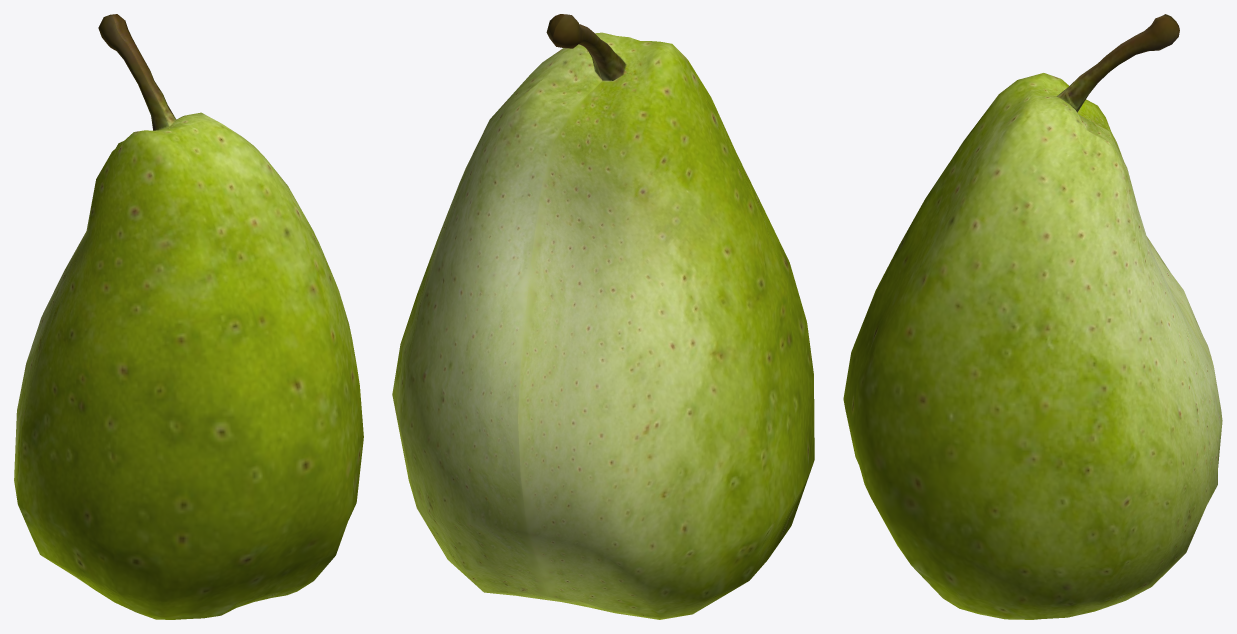
The model's file is z3_pera.obj.
3 views of the same model, side by side, from view 1: azimuth 30°, elevation 25°; view 2: azimuth 150°, elevation 25°; view 3: azimuth 270°, elevation 25° (orthographic). The views are drawn at different scales.
Parts seen in each view (by area): view 1: pera; view 2: pera; view 3: pera.
Part boxes in pixels (x1,y1,x2,y2): pera: (14, 14, 363, 619); pera: (392, 14, 814, 619); pera: (843, 14, 1222, 619).
Bounding box in the file's own units: 0.0525 × 0.09 × 0.0551.
1 material, 1 textured.
